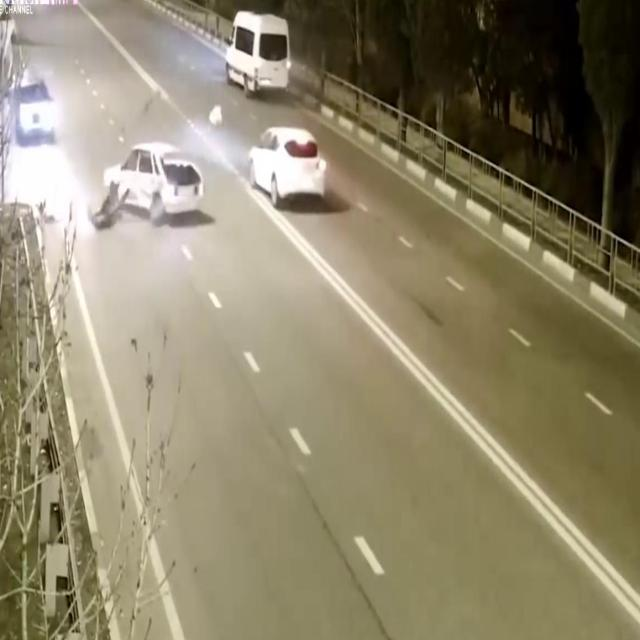accident: (85, 113, 214, 254)
